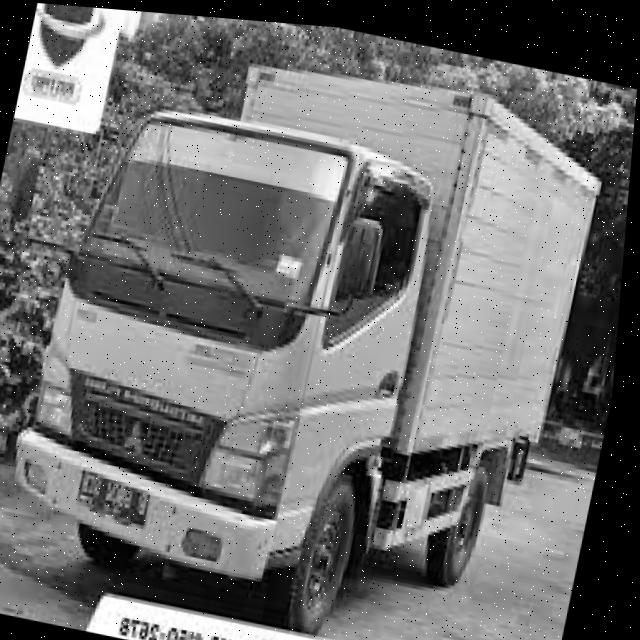truck: (1, 54, 482, 636)
